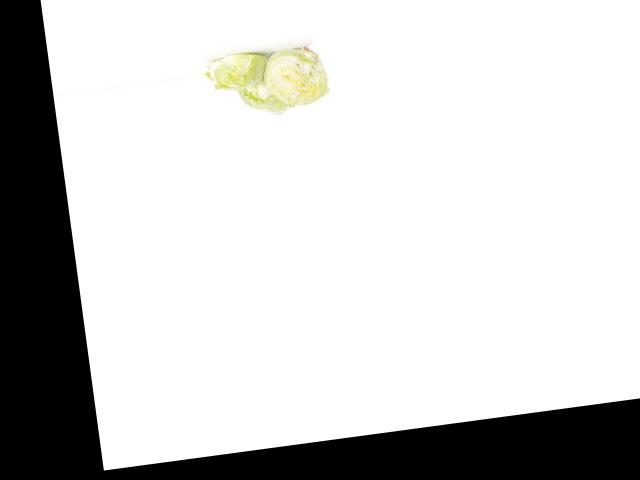lettuce: (230, 70, 301, 122)
